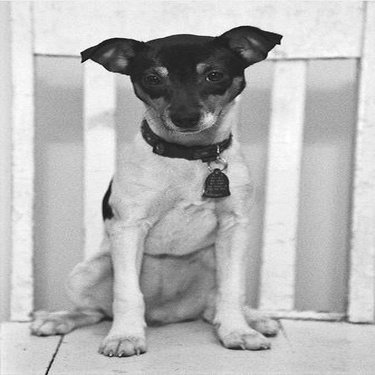dog: (14, 17, 293, 361)
